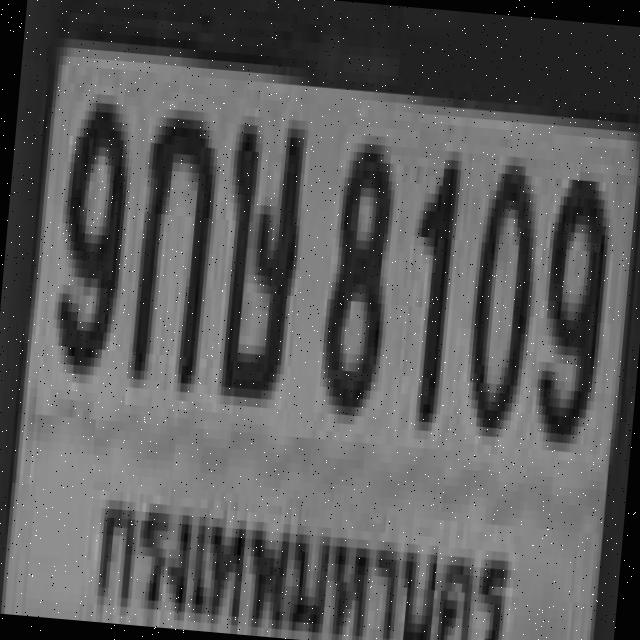0: (458, 153, 540, 430)
1: (398, 148, 459, 422)
10GorGai: (126, 99, 218, 384)
48SorRueSi: (211, 106, 306, 392)
8: (314, 132, 396, 408)
9: (50, 91, 130, 368), (530, 168, 610, 436)
Bangkok: (85, 463, 527, 640)
